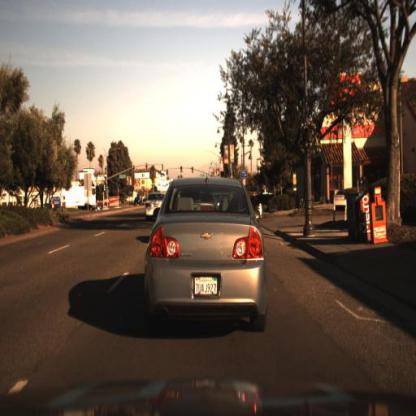car: (143, 173, 266, 332), (145, 188, 167, 225)
